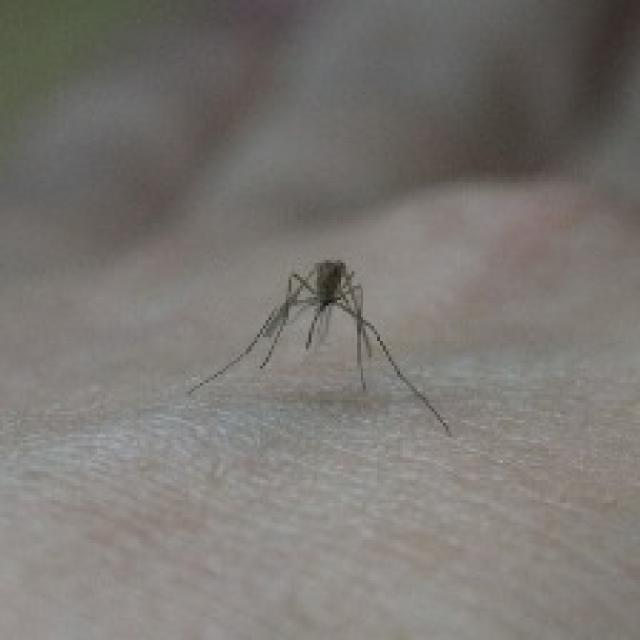culex: (186, 254, 451, 437)
